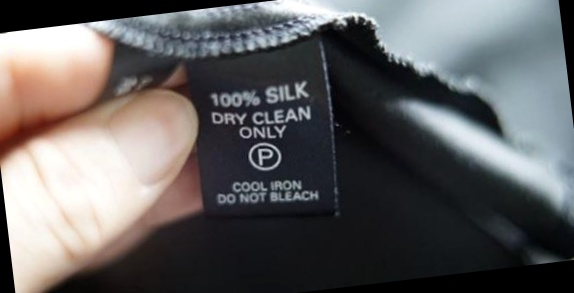dry_clean_any_solvent_except_trichloroethylene: (247, 139, 285, 172)
